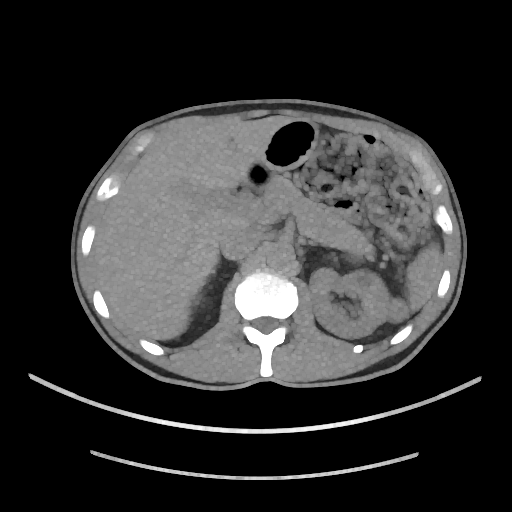Lesion: (381, 293, 414, 327)
